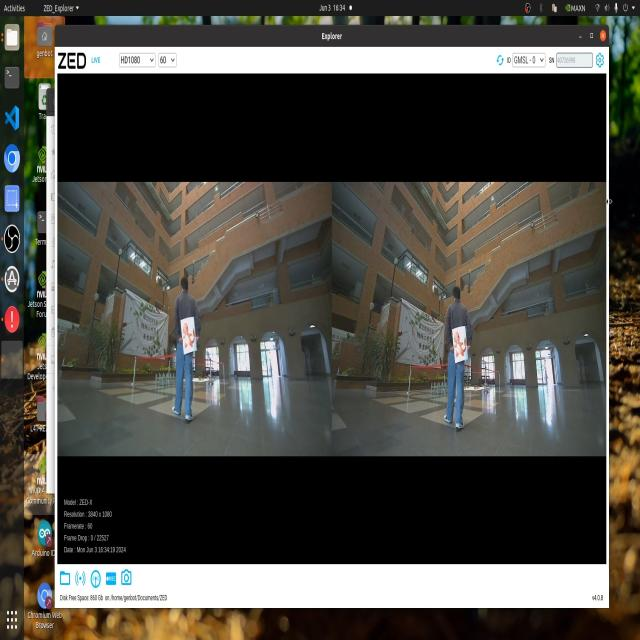red: (452, 331, 471, 358), (183, 328, 196, 359)
